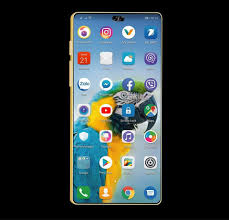bphone: (66, 9, 164, 207)
